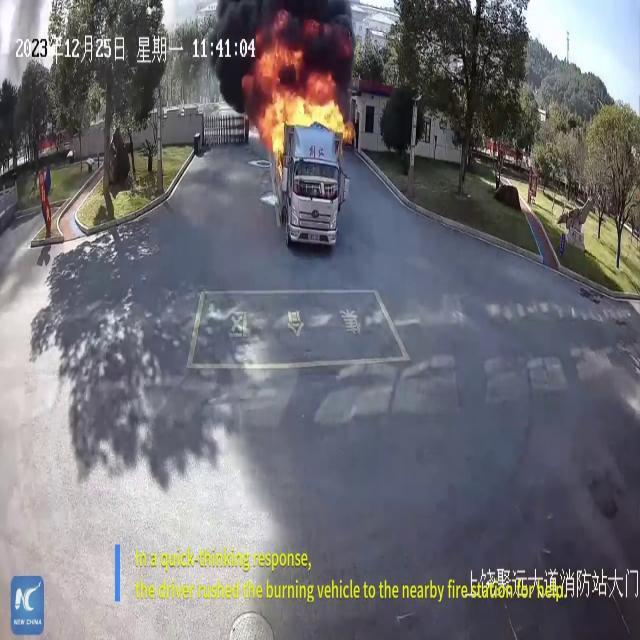Fire: (250, 36, 352, 160)
Smoke: (200, 0, 362, 78)
